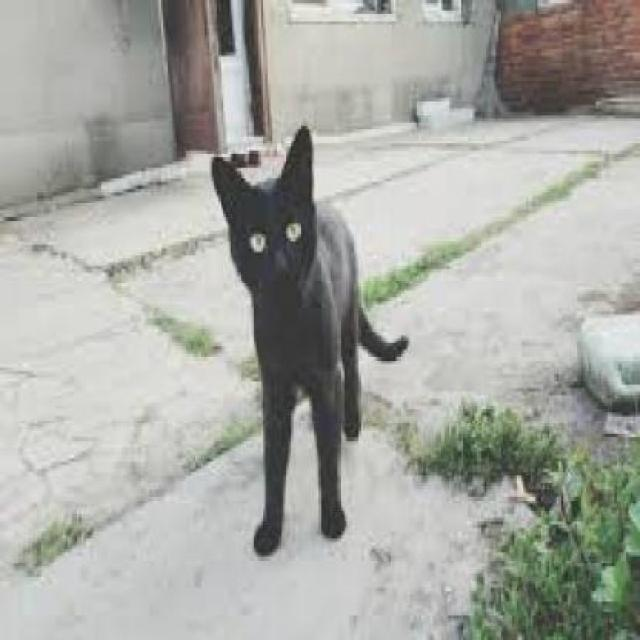animals: (209, 115, 409, 560)
